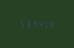eight: (48, 20, 53, 28)
five: (17, 19, 22, 27)
four: (36, 19, 41, 28)
one: (42, 20, 47, 28)
seven: (30, 19, 35, 27)
three: (23, 19, 28, 27)
